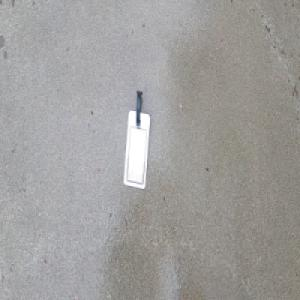LuggageTag: (122, 89, 151, 191)
